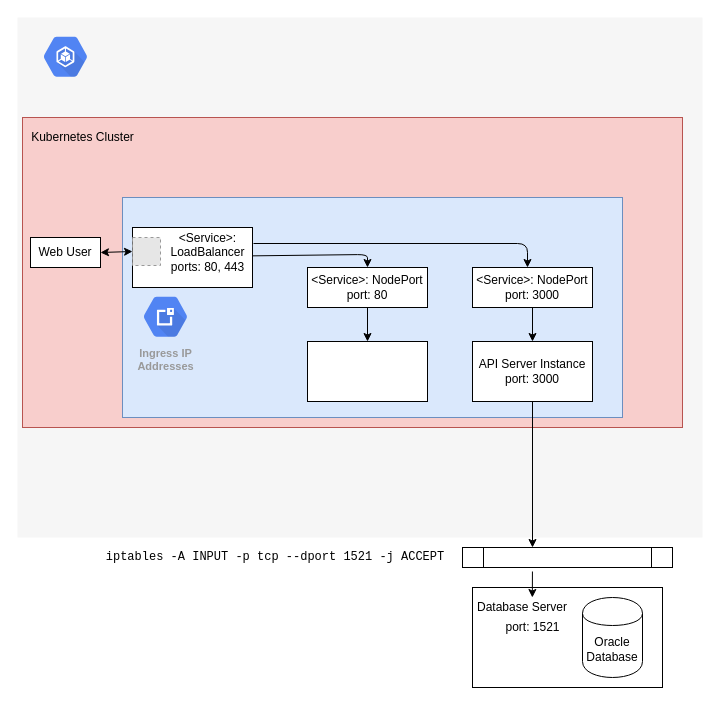
Some shapes in this 719 by 705 pixel diagram are drawn without their labels. Grey dashed boxes stand in for pictures. Each missing label, with the centre of its shape:
Firewall: the point at 567,557
Kubernetes Engine: the point at 65,56
UI Instance port: 80: the point at 367,371
